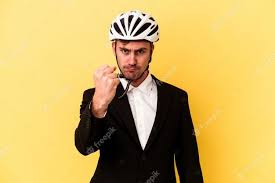helmet: (109, 10, 160, 80)
